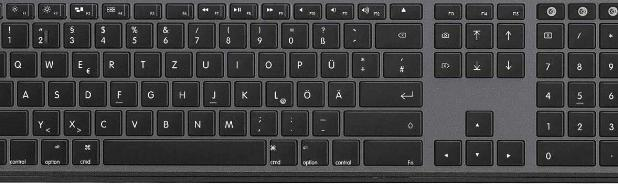0: (280, 21, 308, 48)
1: (1, 21, 28, 48)
2: (30, 20, 59, 48)
3: (61, 20, 90, 48)
4: (93, 21, 121, 48)
5: (124, 21, 152, 48)
6: (155, 21, 183, 48)
7: (187, 21, 214, 48)
8: (217, 21, 246, 48)
9: (250, 23, 279, 50)
a: (16, 79, 43, 107)
accent: (342, 21, 371, 48)
ae: (326, 79, 355, 107)
alt-left: (41, 138, 69, 165)
altgr-right: (299, 137, 328, 166)
b: (155, 108, 184, 135)
c: (93, 108, 121, 135)
caret: (1, 21, 14, 48)
comma: (249, 108, 277, 135)
d: (78, 79, 106, 106)
del: (373, 21, 423, 48)
e: (70, 49, 98, 77)
enter: (358, 79, 423, 107)
f: (109, 79, 137, 106)
g: (140, 79, 168, 106)
h: (171, 79, 199, 106)
hash: (382, 50, 423, 78)
i: (226, 51, 255, 78)
j: (202, 79, 230, 106)
k: (233, 79, 261, 106)
keyboard: (1, 1, 618, 184)
l: (264, 79, 292, 107)
m: (217, 108, 246, 136)
minus: (311, 109, 339, 135)
n: (186, 108, 215, 136)
o: (257, 52, 286, 79)
oe: (295, 79, 324, 107)
p: (288, 50, 316, 77)
plus: (350, 50, 379, 77)
point: (280, 108, 308, 135)
q: (7, 49, 36, 77)
r: (101, 50, 129, 77)
s: (46, 79, 74, 106)
shift-left: (1, 108, 30, 135)
shift-lock: (1, 79, 23, 107)
shift-right: (343, 108, 422, 137)
space: (101, 137, 266, 165)
ss: (311, 21, 339, 48)
strg-left: (8, 138, 38, 166)
strg-right: (331, 138, 360, 167)
t: (132, 50, 160, 77)
tab: (1, 49, 18, 77)
u: (194, 50, 223, 77)
ue: (319, 50, 348, 78)
v: (124, 108, 152, 135)
w: (39, 49, 67, 77)
x: (62, 108, 90, 135)
y: (31, 108, 60, 135)
z: (163, 49, 191, 77)
